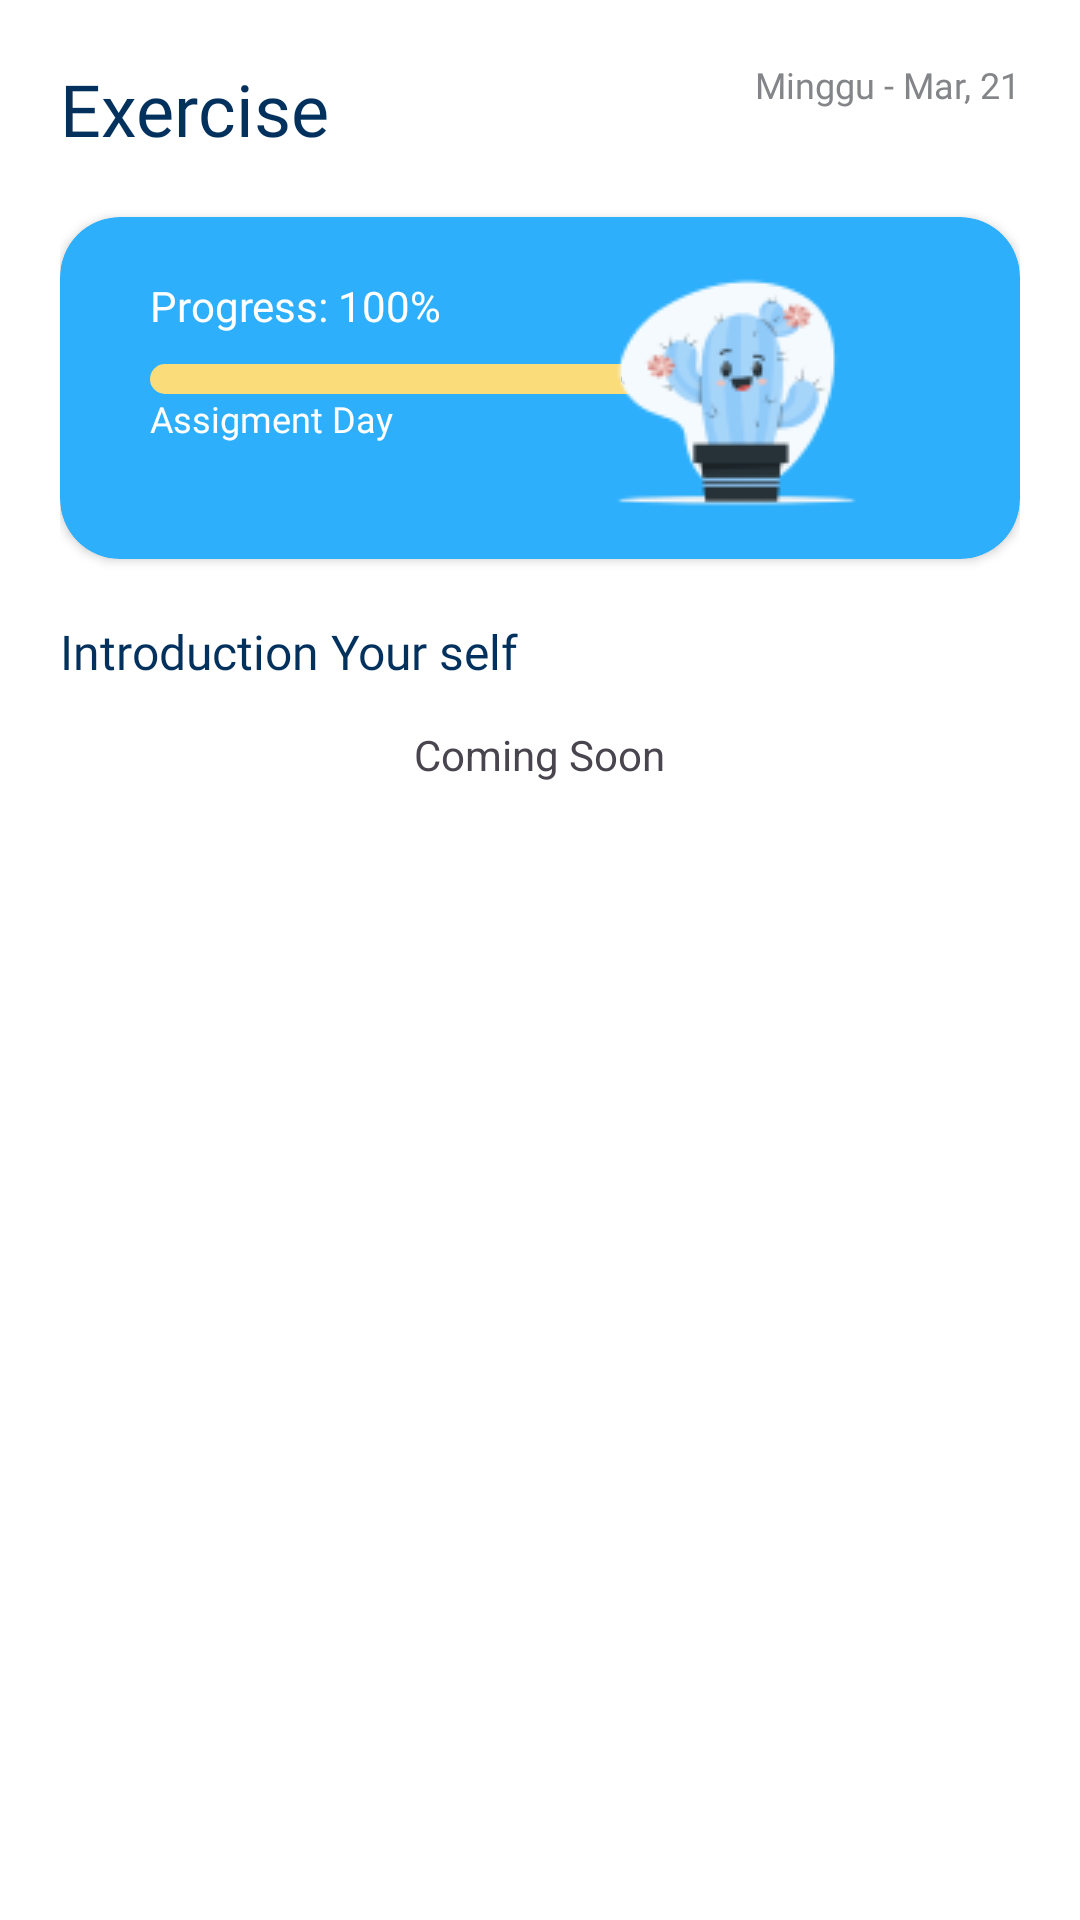

Where to tap for icons on this 1080 × 1920 app screen, as (x,y):
kaktus: (729,392)
